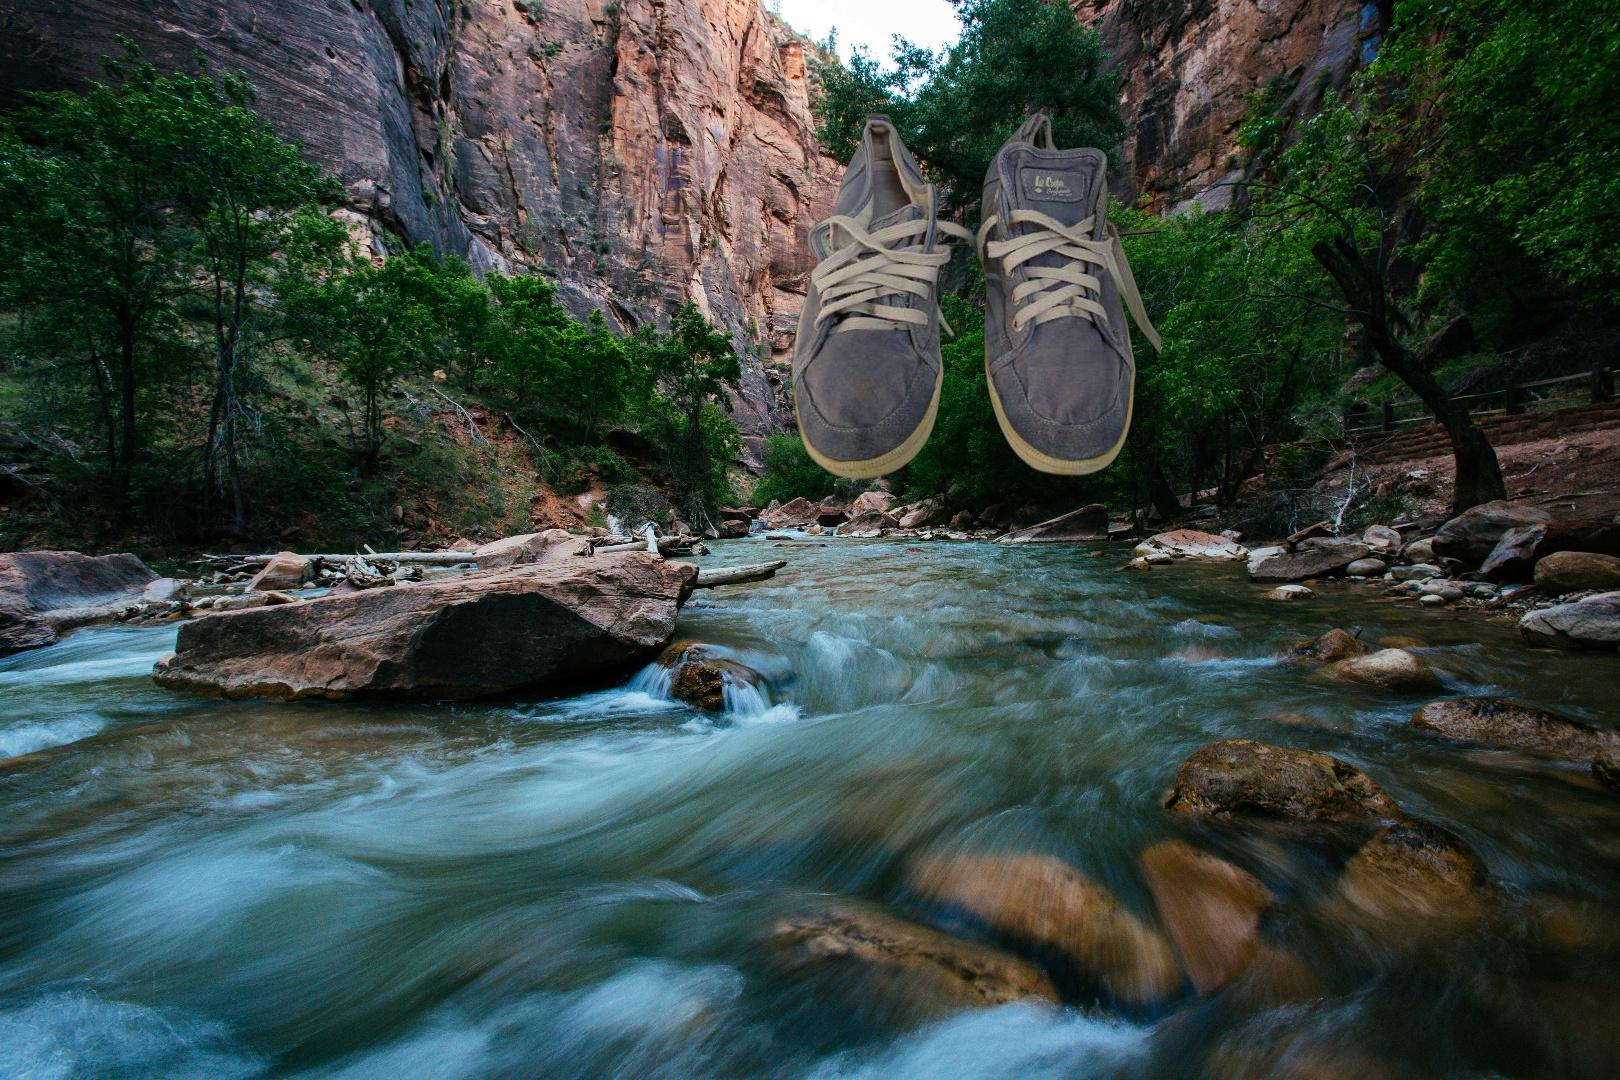metal-cans: (1158, 1075, 1620, 1080)
shoes: (787, 108, 1161, 485)
